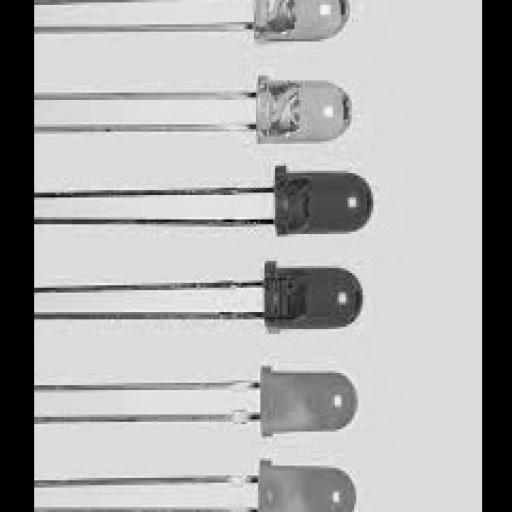LED: (53, 160, 415, 249), (40, 64, 369, 158), (70, 262, 380, 358), (126, 362, 409, 456), (59, 455, 397, 512), (62, 0, 385, 46)
